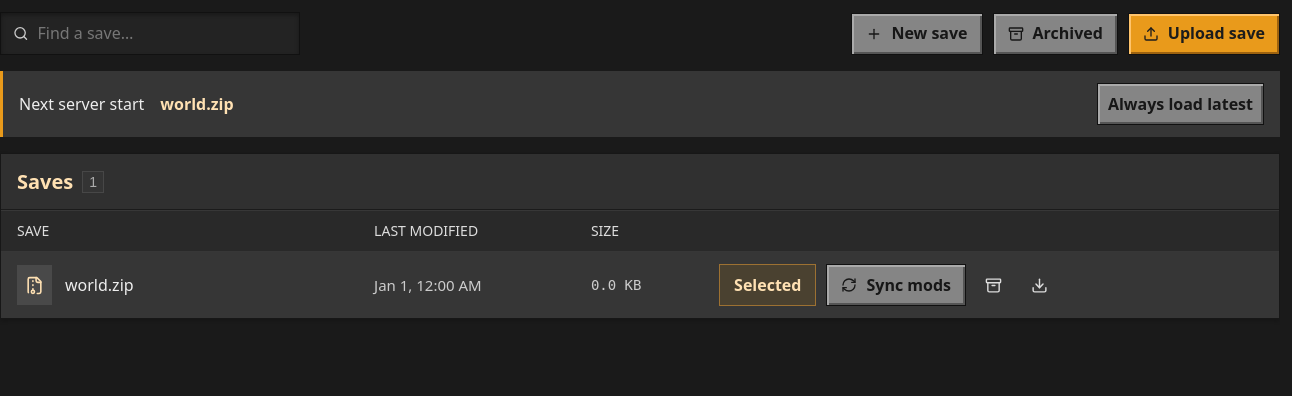
Scenario: names the latest-save policy in its success notice
Click the button "Always load latest": {"x": 1180, "y": 104} [1097,83,1264,125]
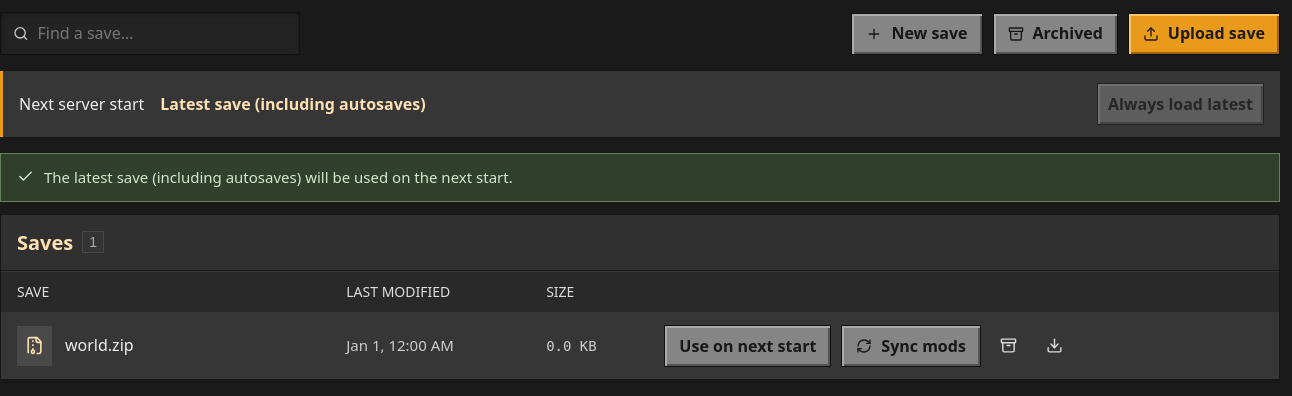
Expected: the text "The latest save (including autosaves) will be used on the next start." is shown, [44,166,513,189]
